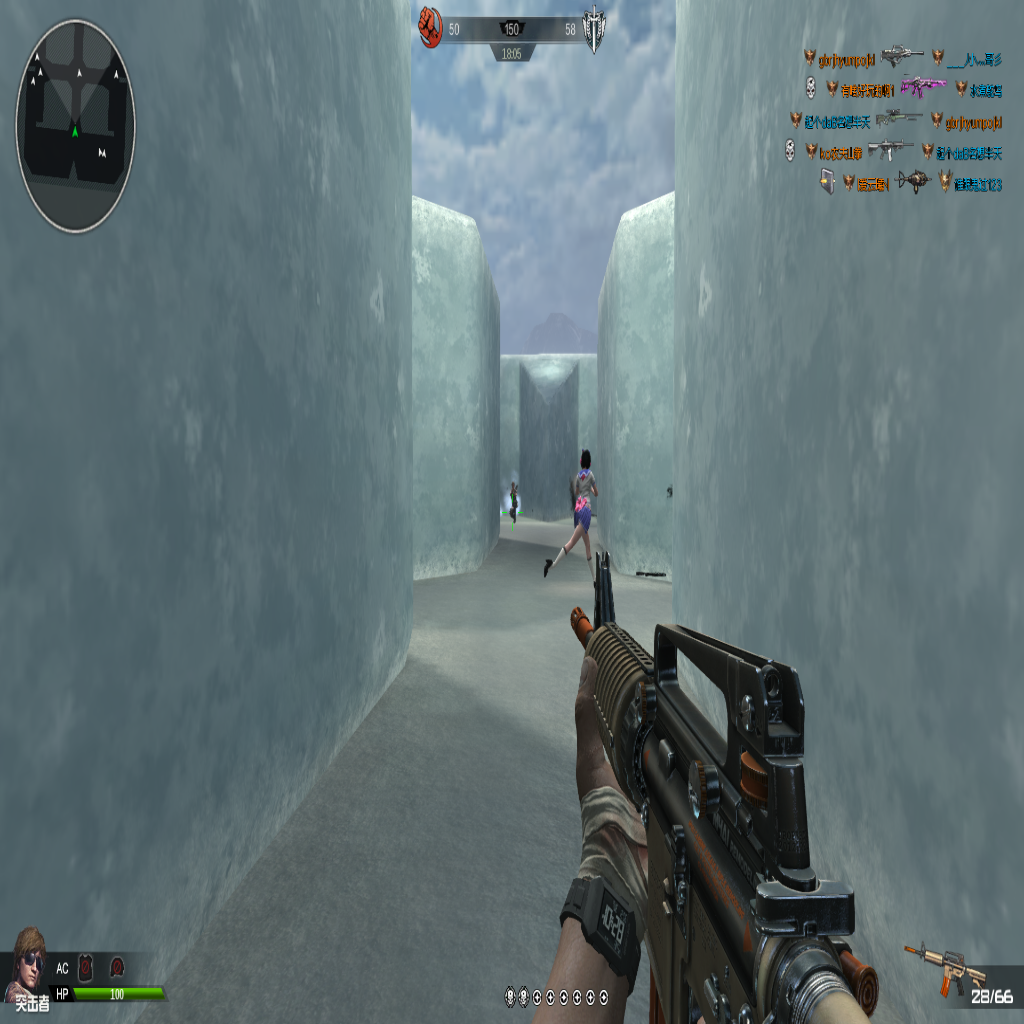ct: (508, 479, 518, 526)
tt: (546, 448, 602, 570)
